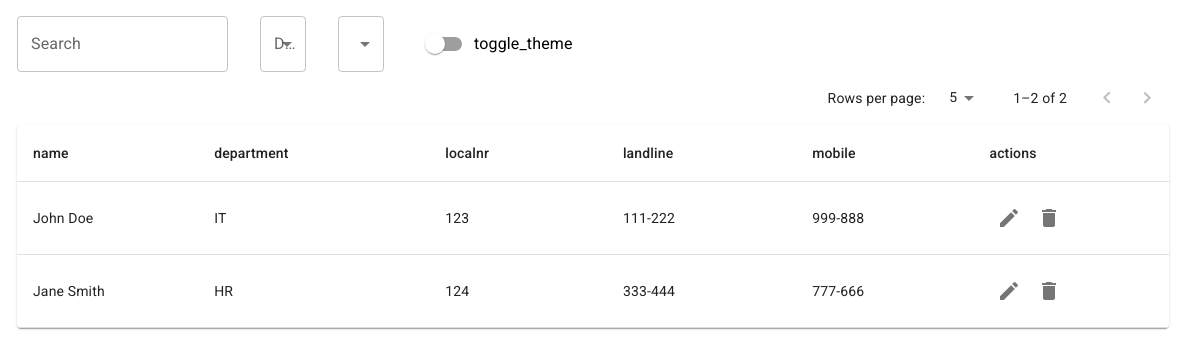
EmployeeTable Component › deletes an employee
Expected: the text "John Doe" is shown, [17,182,198,255]
Click the button with test id "delete-1".
click(1049, 218)  # box [1029,198,1069,238]
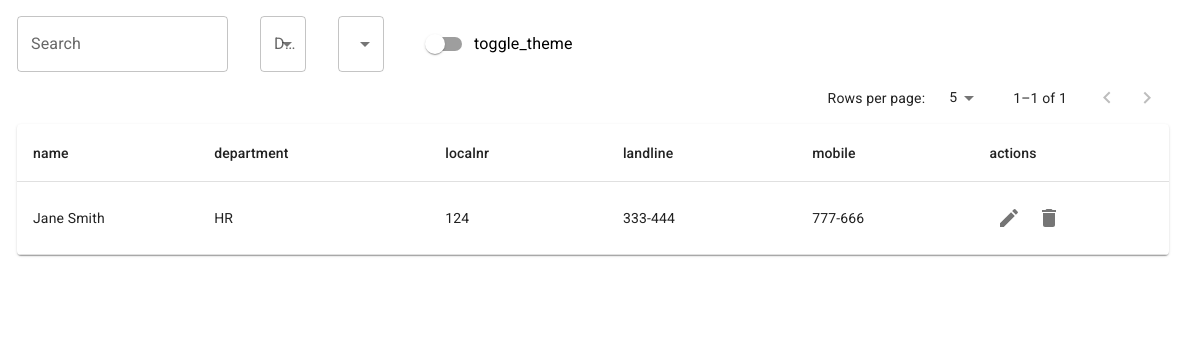
Result: the text "John Doe" is gone
